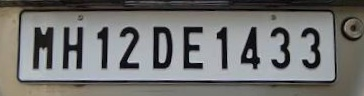numberplate: (16, 8, 338, 85)
